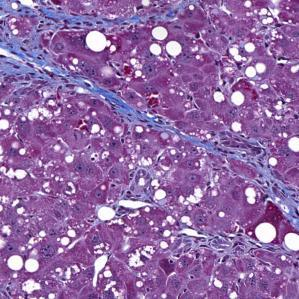fibrosis: (4, 6, 66, 68), (262, 172, 299, 223), (214, 141, 270, 171), (113, 9, 172, 32), (101, 98, 146, 123)
